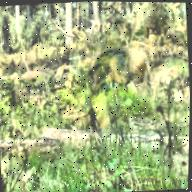boar: (78, 32, 164, 107)
